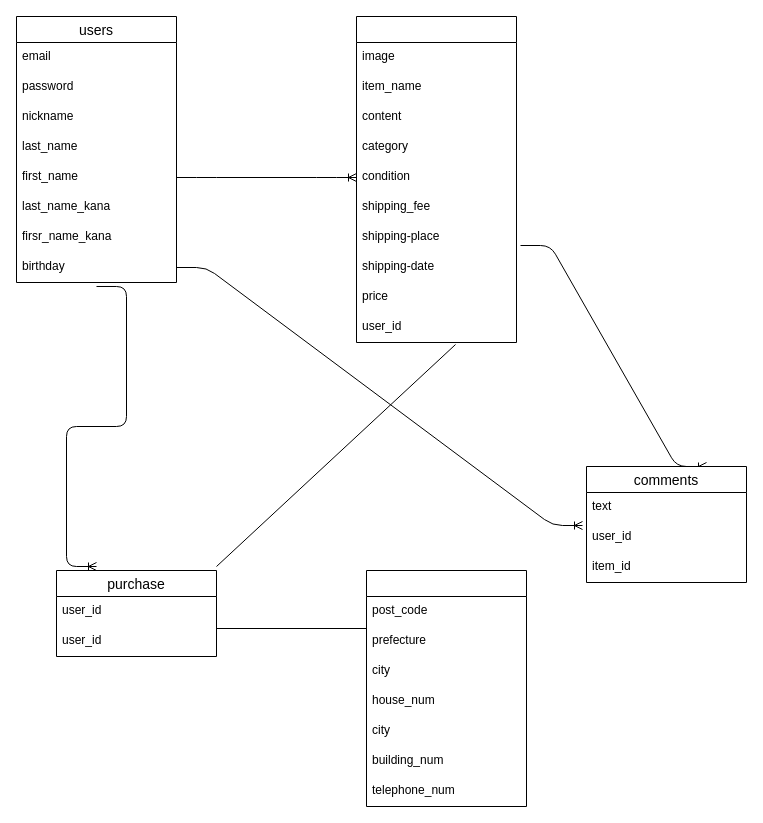
Image size: 763x823. Some labels were removed from this diagram. The box of each missing label's shape, as (x1, y1, x2, y2) in pixels:
address: (366, 570, 526, 806)
items: (356, 16, 516, 342)
